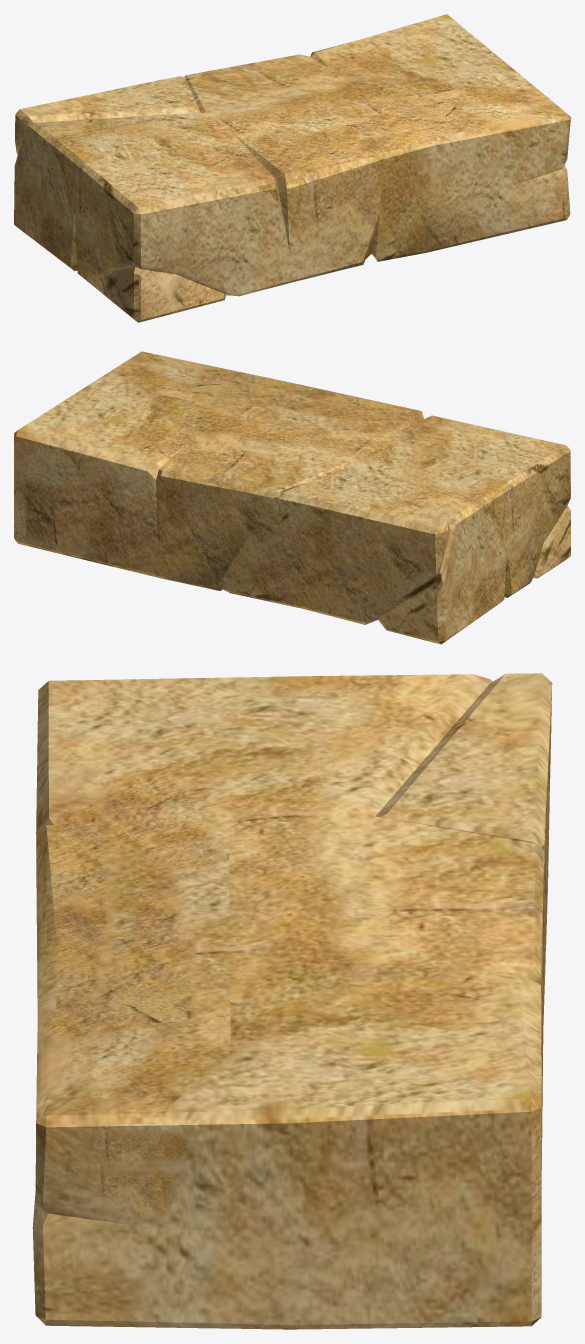
Rendered from каменный кирпич.glb.
3 renders of one model, top to bottom at view 1: azimuth 30°, elevation 25°; view 2: azimuth 150°, elevation 25°; view 3: azimuth 270°, elevation 25°, orthographic. The views are drawn at different scales.
Visible parts, largest first — view 1: Куб; view 2: Куб; view 3: Куб.
Boxes of the visible parts, bbox=[...] form: Куб: bbox=[14, 14, 570, 322]; Куб: bbox=[14, 351, 570, 644]; Куб: bbox=[32, 673, 552, 1329].
Bounding box in the file's own units: 4 × 1.07 × 2.06.
Materials: 1 (1 with a texture image).
